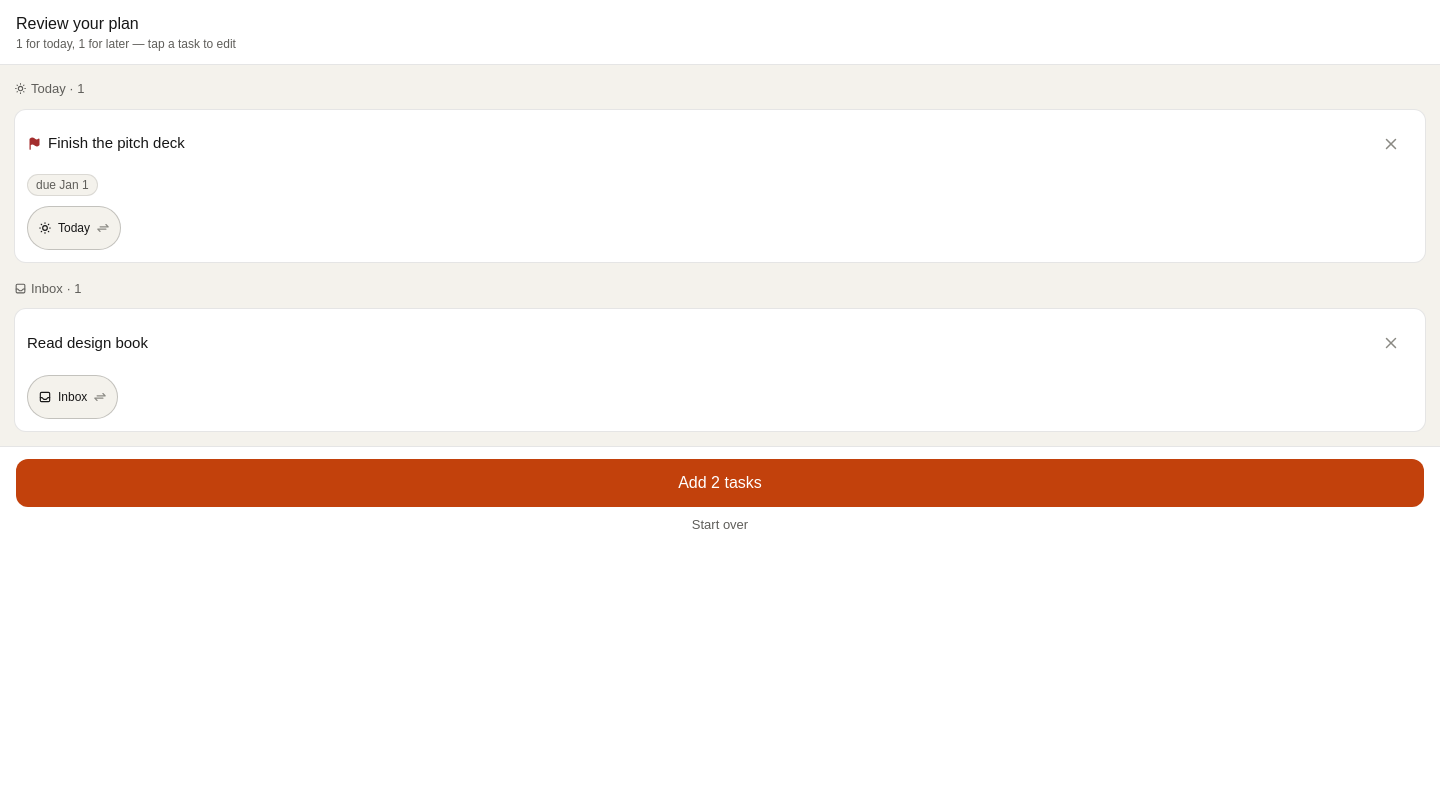
ReviewScreen › asks for confirmation before removing, then updates the count and commit label
The width and height of the screenshot is (1440, 810).
Click the button named "remove finish the pitch deck". click: coordinates (1391, 144)
box: [1369,122,1413,166]
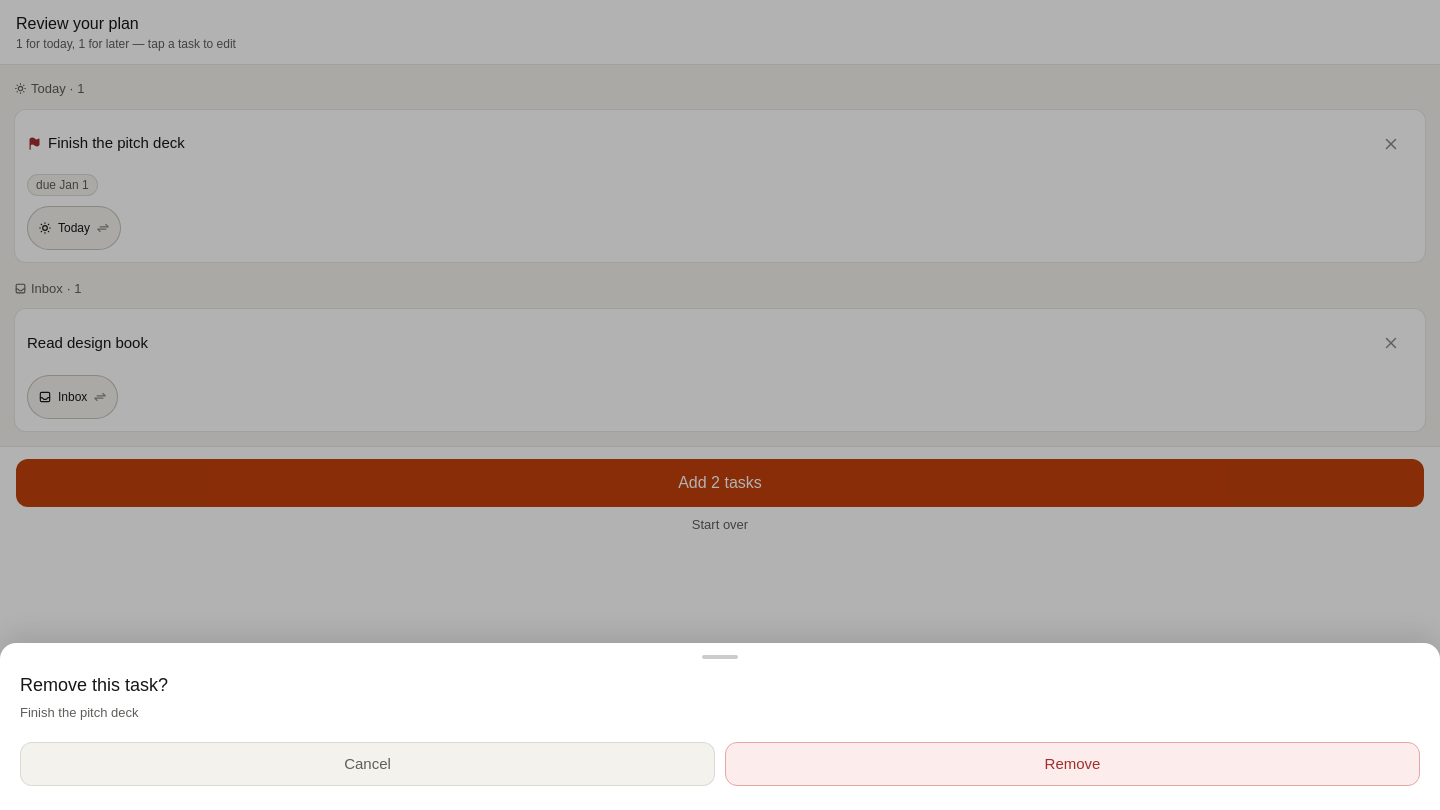
Check: the button "Add 2 tasks" is shown, box [16,459,1424,507]
Check: the text "Finish the pitch deck" is shown, box [20,704,138,720]
Note: Confirming the dialog performs the removal.
Click the button "Remove". click: coordinates (1072, 764)
box: [725,742,1420,786]
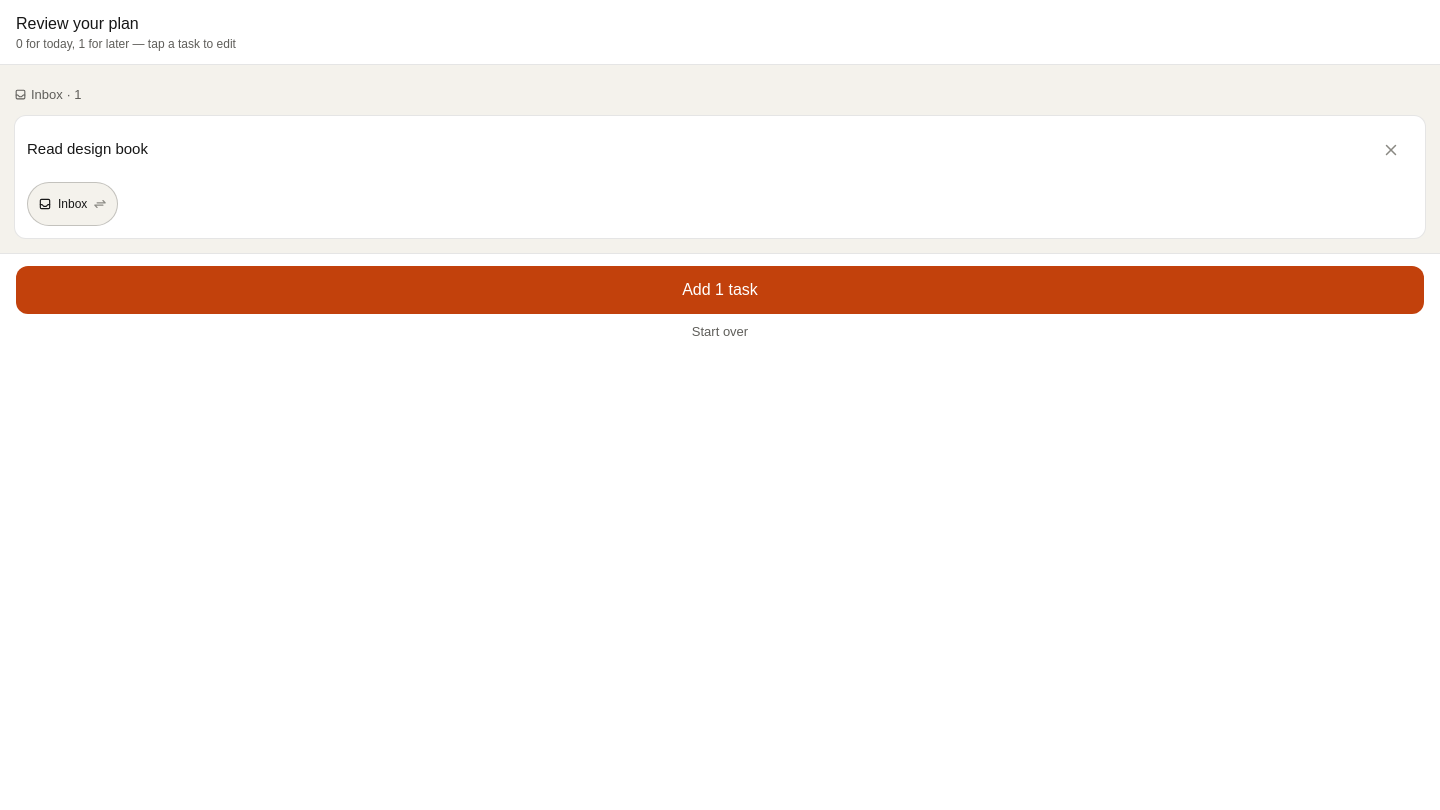
Check: the button "Add 1 task" is shown, box [16,266,1424,314]
